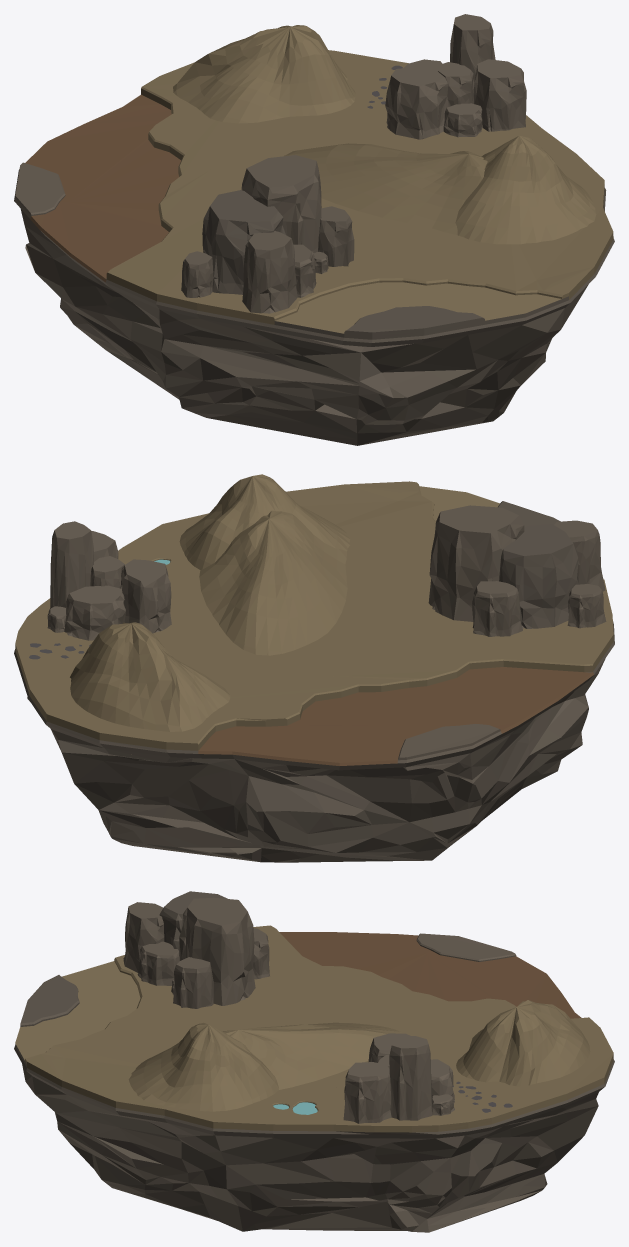
Rendered from MainOasisIsland.fbx.
3 views of the same model, one above another, from view 1: azimuth 30°, elevation 25°; view 2: azimuth 150°, elevation 25°; view 3: azimuth 270°, elevation 25° (orthographic). The views are drawn at different scales.
Visible parts, largest first — view 1: MainOasisIsland; view 2: MainOasisIsland; view 3: MainOasisIsland.
Part boxes in pixels (x1,y1,x2,y2): MainOasisIsland: [14, 14, 614, 445]; MainOasisIsland: [14, 474, 614, 862]; MainOasisIsland: [14, 891, 614, 1232].
Bounding box in the file's own units: 169 × 87.2 × 211.
